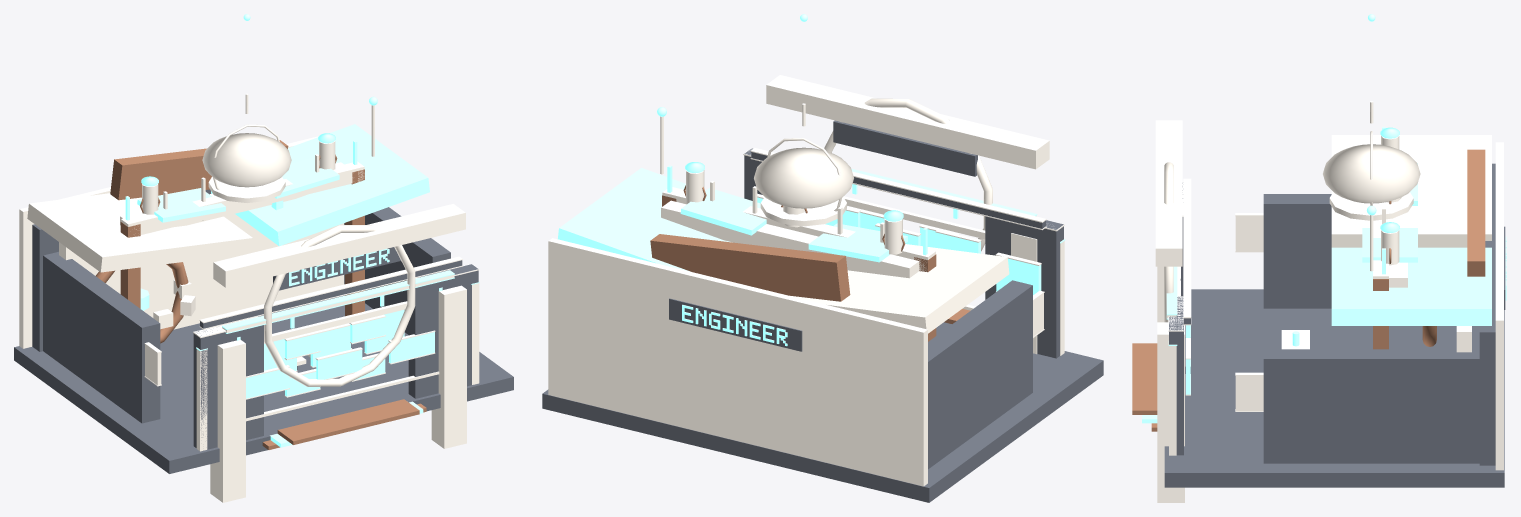
Rendered from engineering-workshop.glb.
3 views of the same model, side by side, from view 1: azimuth 30°, elevation 25°; view 2: azimuth 150°, elevation 25°; view 3: azimuth 270°, elevation 25° (orthographic). The views are drawn at different scales.
Visible parts, largest first — view 1: engineering-workshop:near:surface:1, engineering-workshop:near:surface:0, engineering-workshop:near:surface:2, engineering-workshop:far:surface:0, engineering-workshop:near:surface:3, engineering-workshop:city-identity:bridge; view 2: engineering-workshop:near:surface:1, engineering-workshop:near:surface:0, engineering-workshop:near:surface:2, engineering-workshop:city-identity:bridge, engineering-workshop:near:surface:3; view 3: engineering-workshop:near:surface:0, engineering-workshop:near:surface:1, engineering-workshop:near:surface:2, engineering-workshop:near:surface:3, engineering-workshop:city-identity:bridge, engineering-workshop:far:surface:0.
Boxes of the visible parts, box(x1,y1,x2,y2) form: engineering-workshop:near:surface:1: box(19, 93, 479, 502); engineering-workshop:near:surface:0: box(14, 189, 513, 473); engineering-workshop:near:surface:2: box(125, 14, 479, 447); engineering-workshop:far:surface:0: box(59, 214, 344, 329); engineering-workshop:near:surface:3: box(96, 154, 426, 449); engineering-workshop:city-identity:bridge: box(110, 140, 288, 200); engineering-workshop:near:surface:1: box(548, 75, 1064, 486); engineering-workshop:near:surface:0: box(542, 120, 1103, 502); engineering-workshop:near:surface:2: box(558, 14, 1065, 346); engineering-workshop:city-identity:bridge: box(650, 234, 850, 301); engineering-workshop:near:surface:3: box(662, 185, 970, 341); engineering-workshop:near:surface:0: box(1164, 163, 1505, 487); engineering-workshop:near:surface:1: box(1155, 101, 1503, 502); engineering-workshop:near:surface:2: box(1142, 14, 1506, 423); engineering-workshop:near:surface:3: box(1132, 201, 1436, 431); engineering-workshop:city-identity:bridge: box(1467, 149, 1485, 276); engineering-workshop:far:surface:0: box(1456, 326, 1471, 352).
Size of the model in its own units: 16.9 by 18.15 by 14.55.
